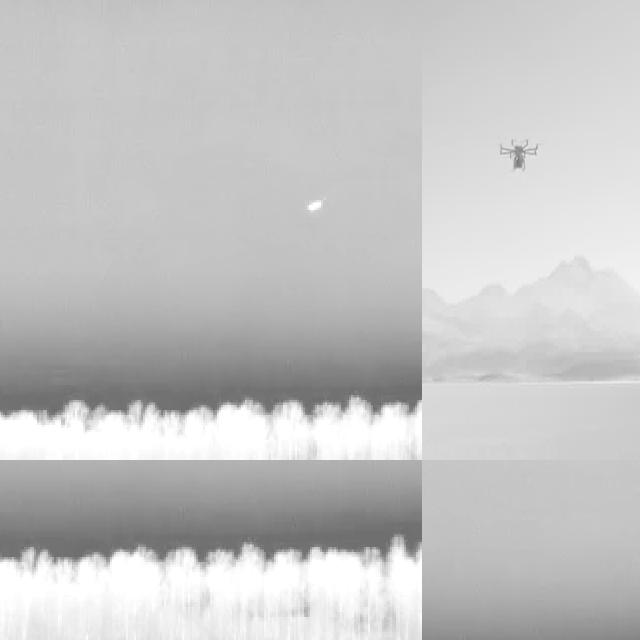1: (299, 194, 335, 224)
drone: (497, 129, 538, 176)
